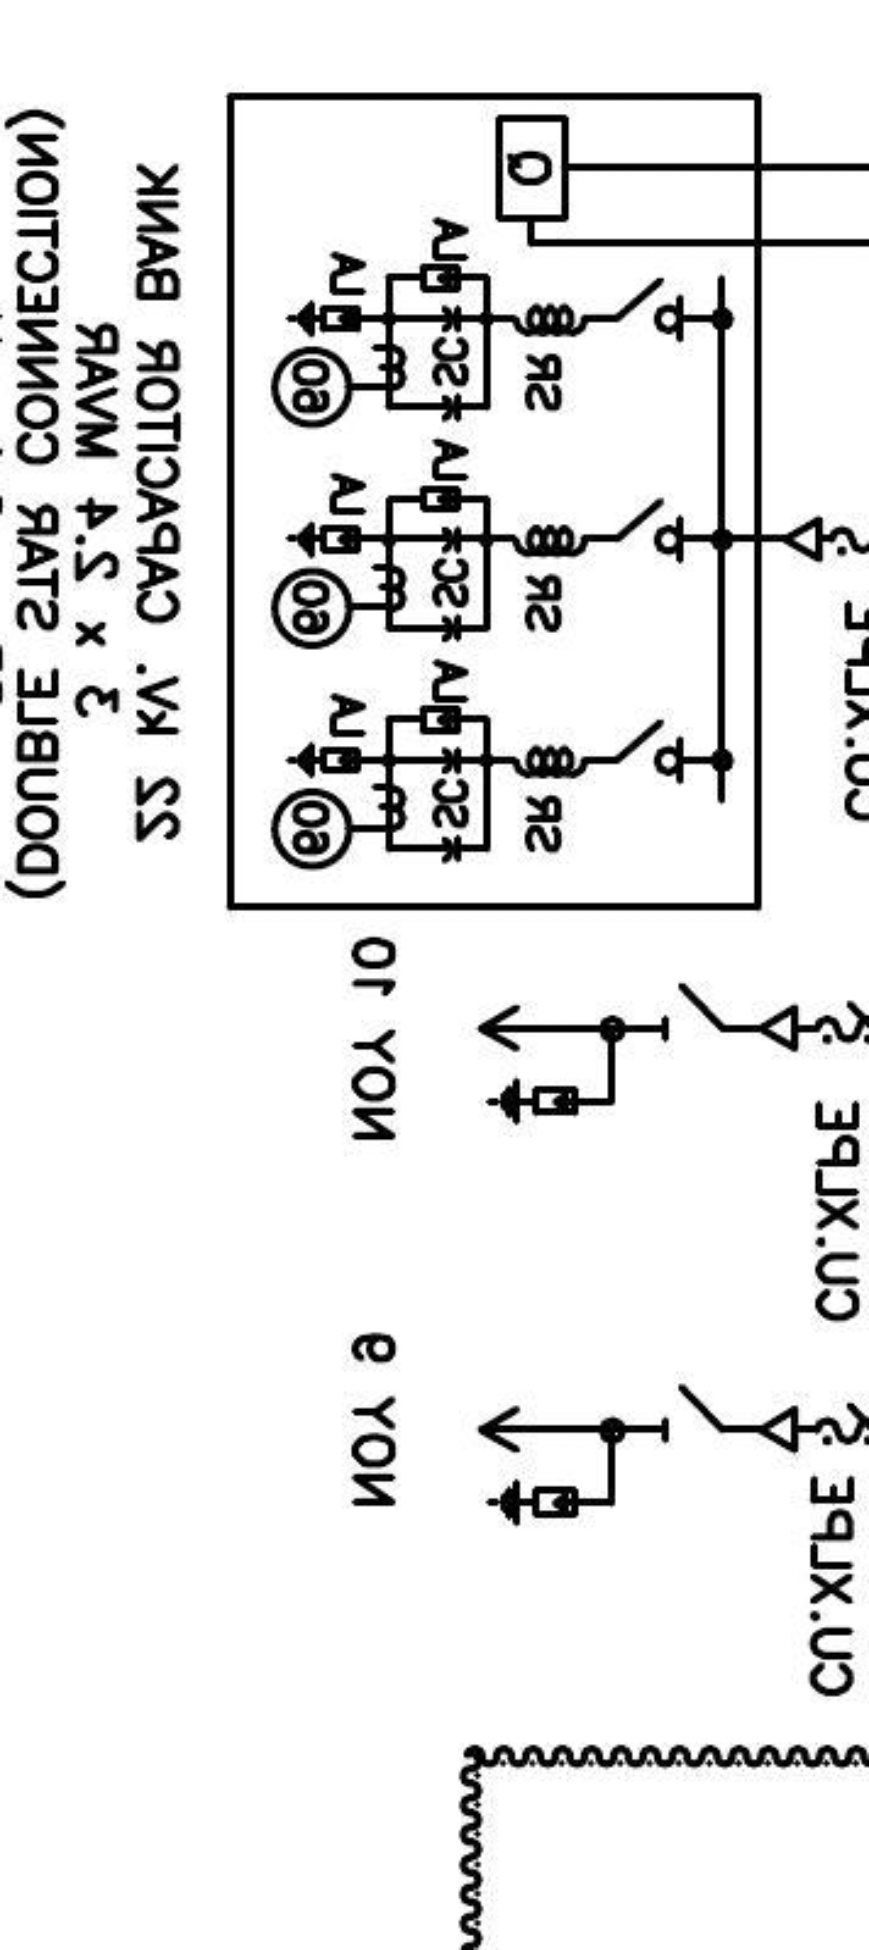22_cap_bank: (225, 91, 763, 913)
22_ds_la_out: (474, 1382, 724, 1528), (475, 979, 724, 1125)
Q: (492, 113, 571, 224)
terminator_single: (757, 1405, 799, 1455), (757, 1002, 799, 1052), (782, 516, 824, 566)
